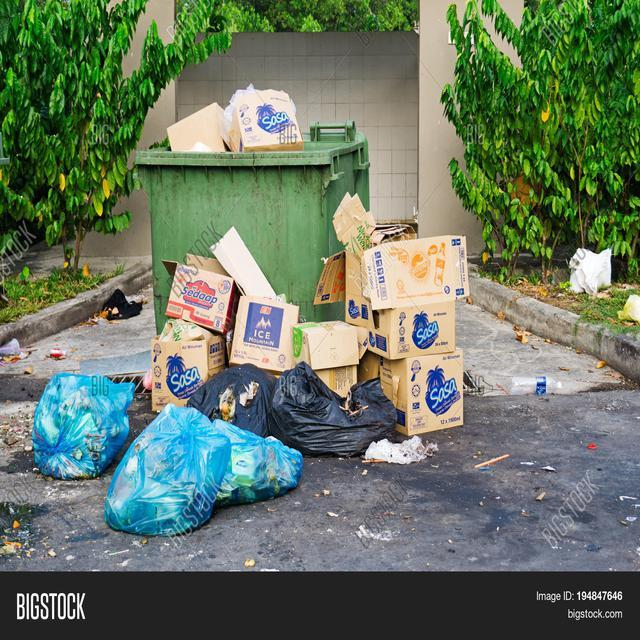garbage: (301, 191, 490, 466), (26, 366, 307, 548), (153, 224, 309, 371), (160, 86, 301, 158), (552, 241, 639, 324), (85, 280, 145, 324), (506, 366, 570, 402), (0, 325, 23, 362)
